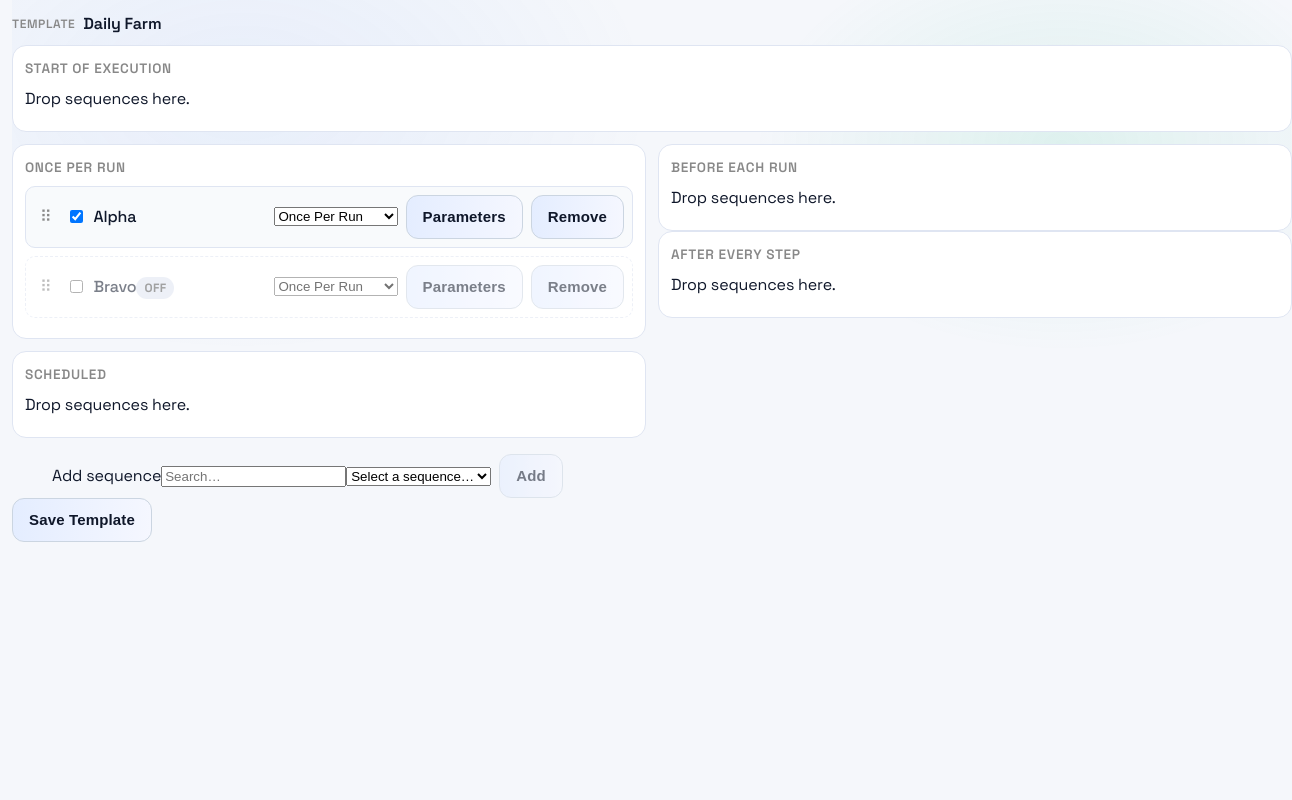
Test: RunningQueueEditor with a linked template › tells the page and the operator that the template is saved
Expected: the element named "Queue sequences" is shown, [12,45,1291,498]
Click the button "Save Template": x=82, y=520 [12,498,152,542]
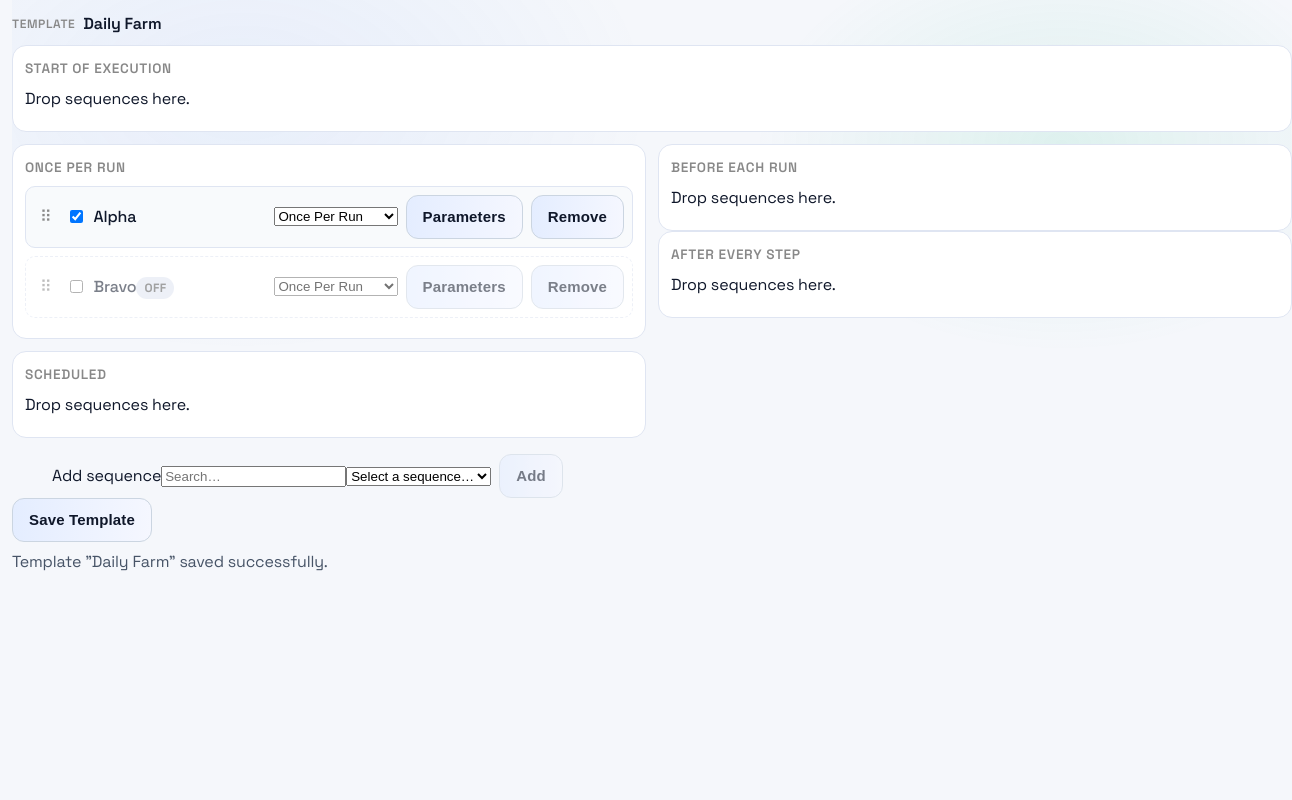
Expected: the text "Template \"Daily Farm\" saved successfully." is shown, [12,551,328,572]
